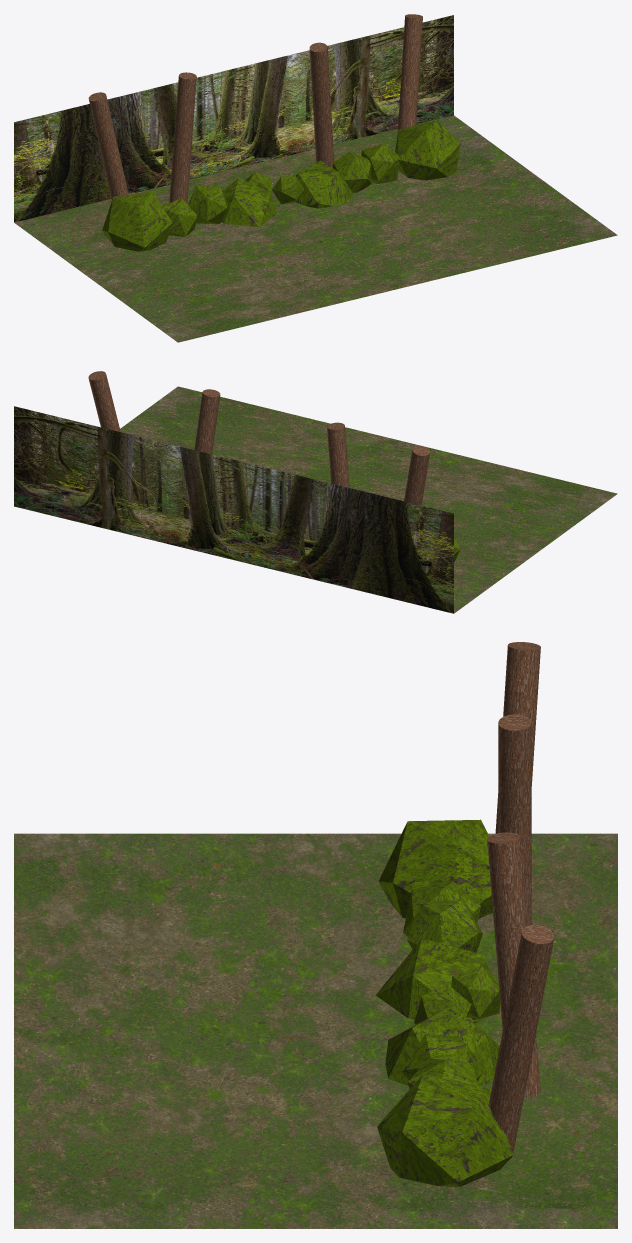
The model's file is Level_Forest.fbx.
3 renders of one model, top to bottom at view 1: azimuth 30°, elevation 25°; view 2: azimuth 150°, elevation 25°; view 3: azimuth 270°, elevation 25°, orthographic. The views are drawn at different scales.
Visible parts, largest first — view 1: Floor, Background, Bushes, trees; view 2: Background, Floor, trees; view 3: Floor, Bushes, trees.
Part boxes in pixels (x1,y1,x2,y2): Floor: (14,115,617,342); Background: (14,15,453,222); Bushes: (102,120,460,251); trees: (88,14,422,203); Background: (14,406,453,613); Floor: (120,386,617,613); trees: (88,371,430,505); Floor: (14,833,617,1228); Bushes: (376,819,513,1186); trees: (487,642,554,1159).
Size of the model in its own units: 628 by 226 by 405.
